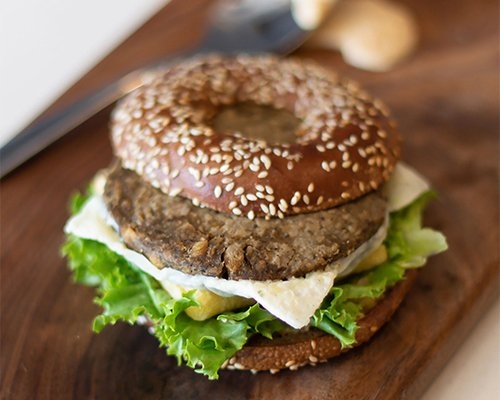soup: (65, 53, 447, 385)
